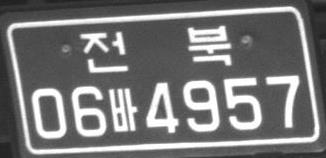0: (30, 87, 67, 139)
4: (145, 81, 179, 133)
5: (222, 76, 263, 130)
6: (70, 84, 107, 138)
7: (265, 74, 302, 129)
9: (183, 79, 220, 132)
바: (107, 87, 138, 133)
전북_D: (80, 24, 233, 73)
